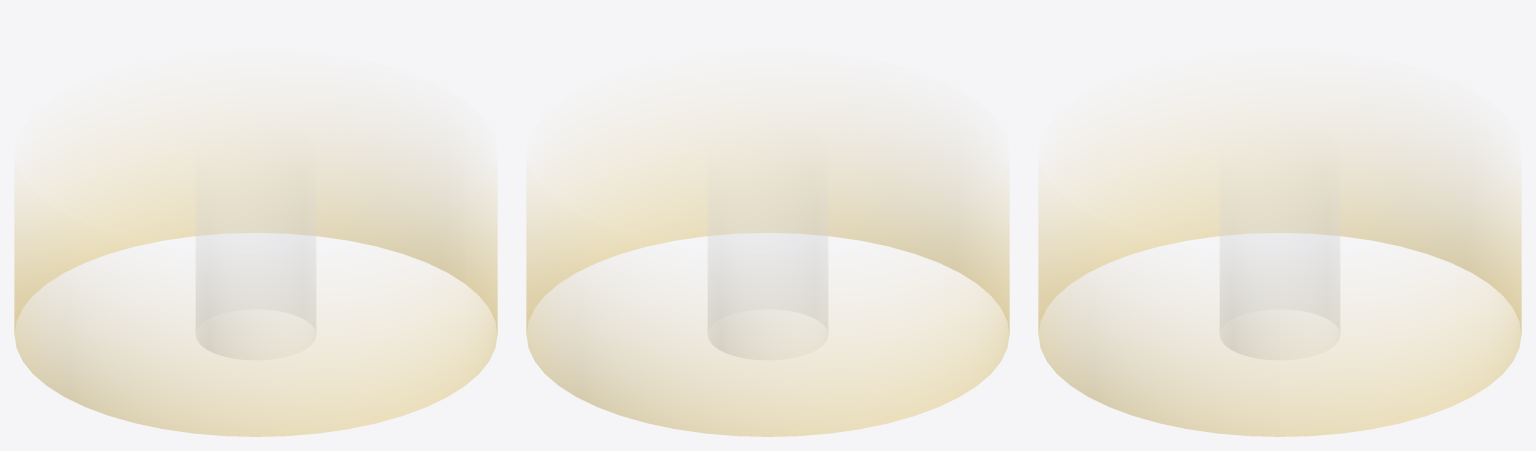
Rendered from fx_pillar_club.glb.
3 views of the same model, side by side, from view 1: azimuth 30°, elevation 25°; view 2: azimuth 150°, elevation 25°; view 3: azimuth 270°, elevation 25° (orthographic).
Visible parts, largest first — view 1: fx_pillar_club; view 2: fx_pillar_club; view 3: fx_pillar_club.
Part boxes in pixels (x1,y1,x2,y2): fx_pillar_club: (14, 107, 497, 436); fx_pillar_club: (526, 107, 1009, 436); fx_pillar_club: (1038, 107, 1521, 436).
Bounding box in the file's own units: 2 × 1 × 2.
Materials: 2 (2 with a texture image).
